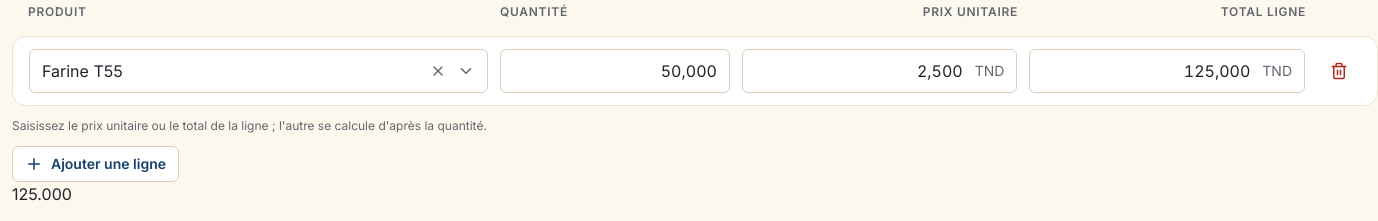
Test: LineEditor › derives the unit price from a typed line total
The width and height of the screenshot is (1378, 221).
Replace the text in the field named "Total ligne 1" with "100" at (1146, 71), box [1030,50,1262,92]
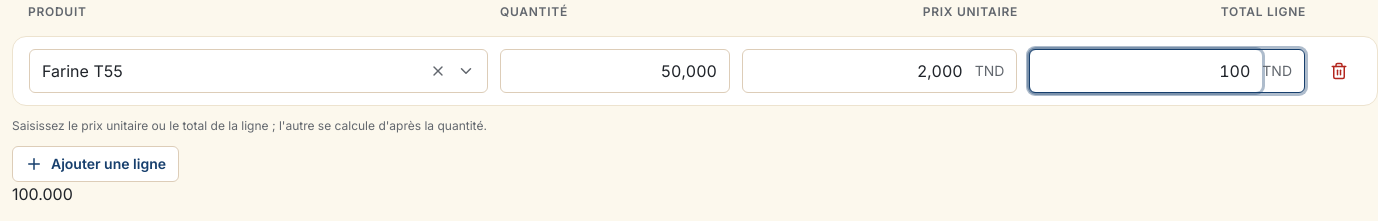
Expected: the field named "Prix unitaire 1" holds "2,000"
Expected: the text with test id "total" reads "100.000", [12,184,73,204]
Replace the text in the field named "Prix unitaire 1" with "3" at (859, 71), box [743,50,975,92]
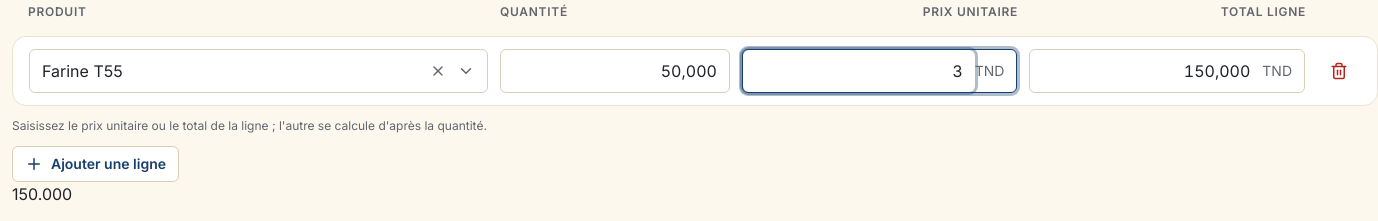
Expected: the text with test id "total" reads "150.000", [12,184,72,204]
Expected: the field named "Total ligne 1" holds "150,000", [1030,50,1262,92]
